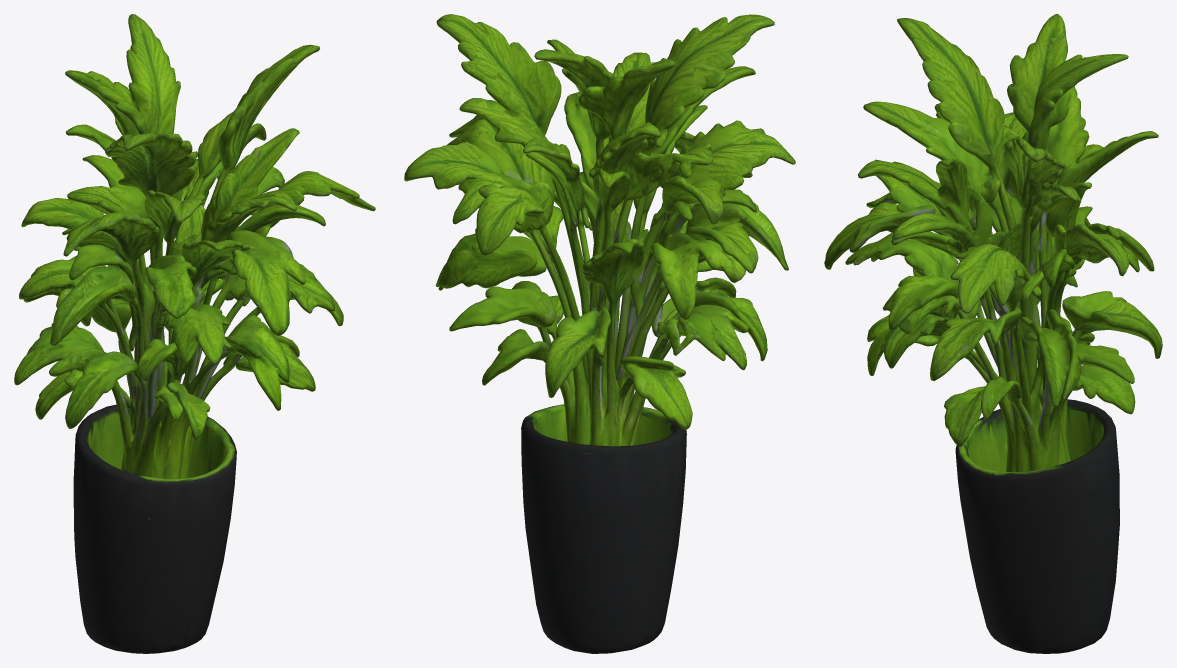
Rendered from flower.glb.
3 renders of one model, left to right at view 1: azimuth 30°, elevation 25°; view 2: azimuth 150°, elevation 25°; view 3: azimuth 270°, elevation 25°, orthographic. The views are drawn at different scales.
Visible parts, largest first — view 1: Mesh_0.001; view 2: Mesh_0.001; view 3: Mesh_0.001.
Boxes of the visible parts, left/top/right/bottom form: Mesh_0.001: left=14, top=14, right=375, bottom=653; Mesh_0.001: left=404, top=14, right=795, bottom=653; Mesh_0.001: left=824, top=14, right=1162, bottom=653.
Bounding box in the file's own units: 0.5589 × 0.9525 × 0.4967.
1 material, 1 textured.
